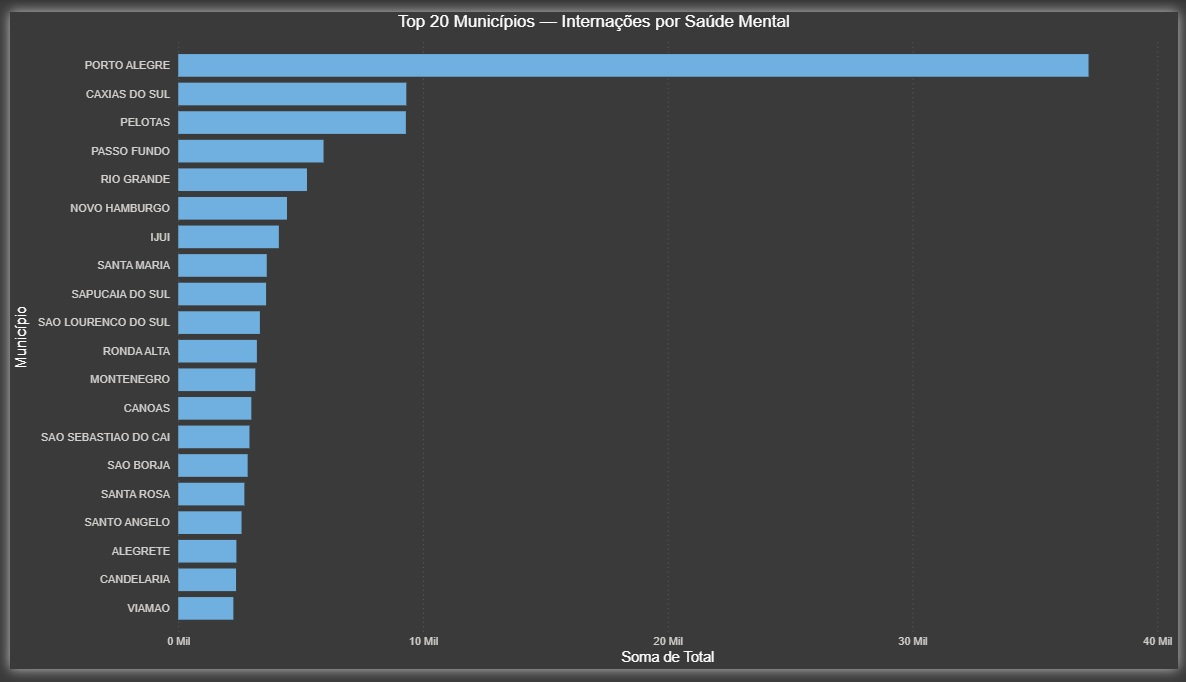

What the dashboard file says about the page in this screenshot:
{"tool":"powerbi","page":{"name":"Distribuição Geográfica","canvas":[1280,720],"ordinal":2},"visuals":[{"type":"clusteredBarChart","title":"Top 20 Municípios — Internações por Saúde Mental","fields":{"Category":["por_municipio_ano1.Município"],"Y":["Sum(por_municipio_ano1.Total)"]},"box":[0,0,1279.5,720.5],"z":0}]}

Visuals, with their boxes in screenshot pixels (x1, y1, x2, y2), scaled from the page's 1280x720 canvas onto the 1186x682 screenshot:
"Top 20 Municípios — Internações por Saúde Mental" clusteredBarChart: (0,0,1185,681)
